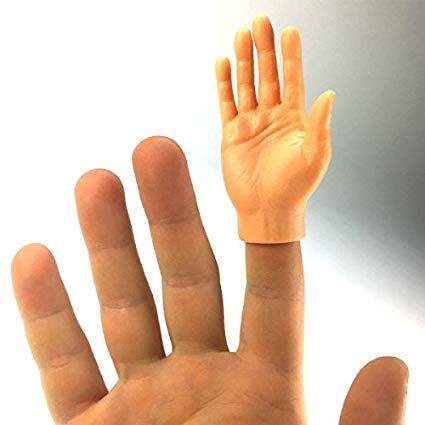finger: (129, 132, 235, 344), (72, 155, 167, 358), (9, 235, 108, 422), (252, 11, 281, 104), (233, 26, 261, 113), (282, 28, 305, 112), (215, 58, 240, 114)
